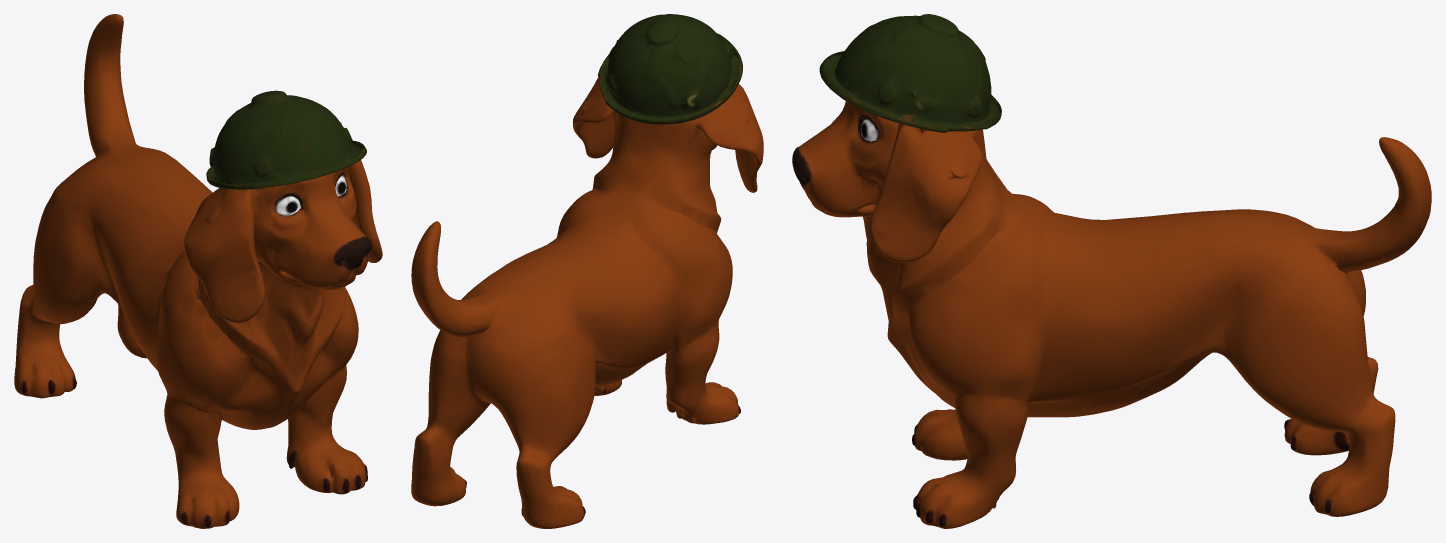
File: detail_1.glb
The picture shows the model from 3 angles, left to right: view 1: azimuth 30°, elevation 25°; view 2: azimuth 150°, elevation 25°; view 3: azimuth 270°, elevation 25°; orthographic projection. The views are drawn at different scales.
Bounding box in the file's own units: 0.3919 × 0.7982 × 1.
1 material, 1 textured.
